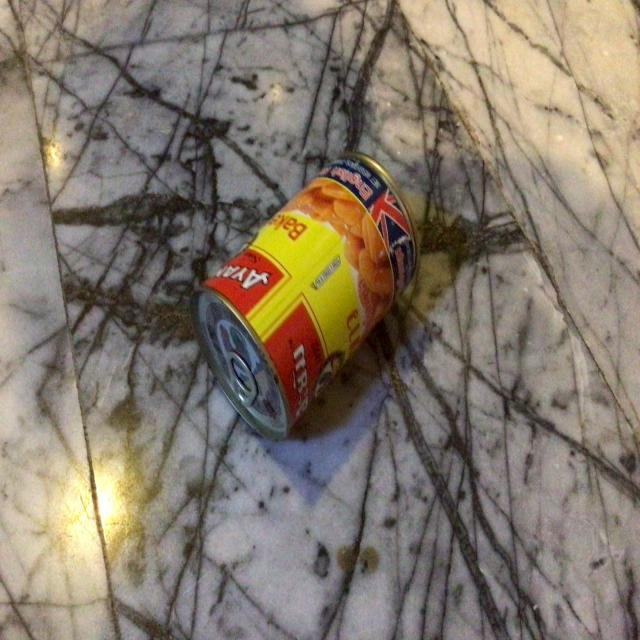can: (200, 153, 421, 440)
